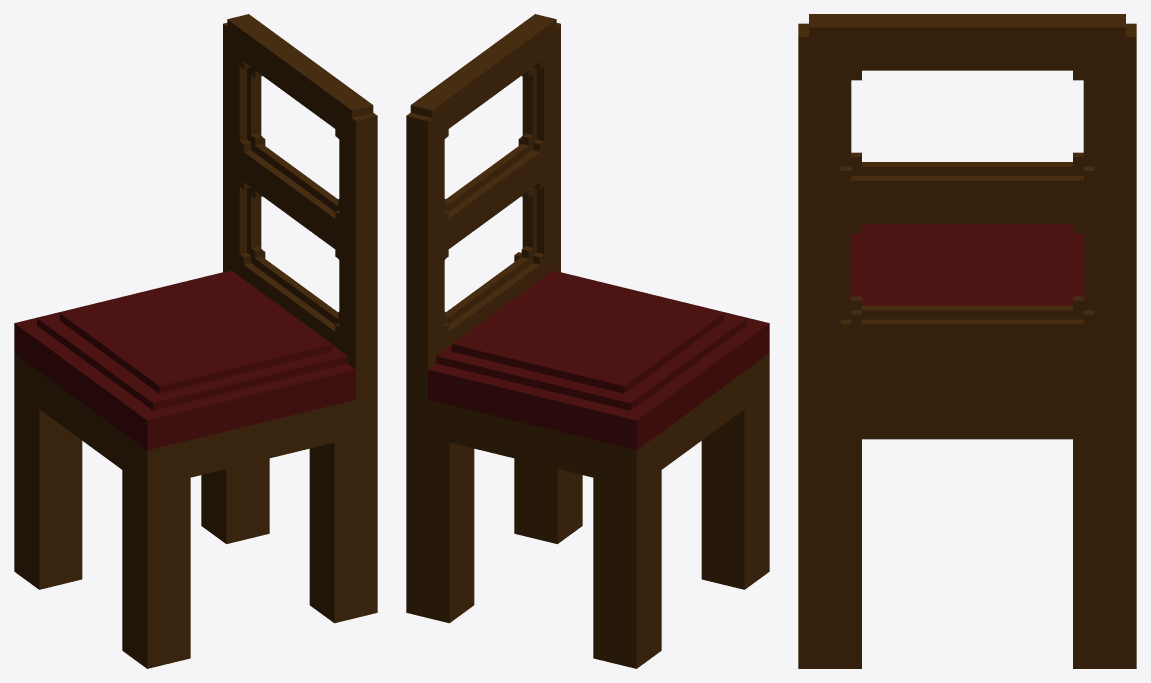
File: Chair.obj
3 renders of one model, left to right at view 1: azimuth 30°, elevation 25°; view 2: azimuth 150°, elevation 25°; view 3: azimuth 270°, elevation 25°, orthographic. The views are drawn at different scales.
Size of the model in its own units: 3.2 by 6.7 by 3.2.
Materials: 1 (1 with a texture image).
